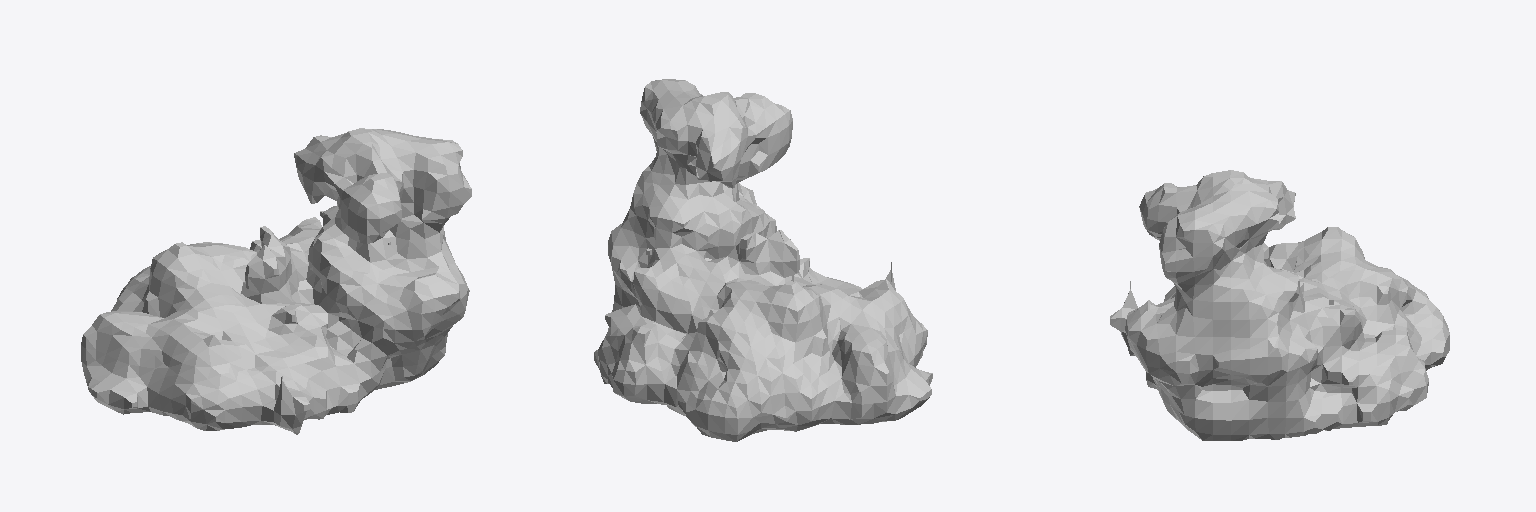
Rendered from cloud3.obj.
3 views of the same model, side by side, from view 1: azimuth 30°, elevation 25°; view 2: azimuth 150°, elevation 25°; view 3: azimuth 270°, elevation 25° (orthographic).
Parts seen in each view (by area): view 1: 1019; view 2: 1019; view 3: 1019.
Boxes of the visible parts, x1=… form: 1019: x1=81, y1=128, x2=471, y2=434; 1019: x1=594, y1=79, x2=932, y2=441; 1019: x1=1110, y1=170, x2=1449, y2=440.
Size of the model in its own units: 34.96 by 25.02 by 31.9.